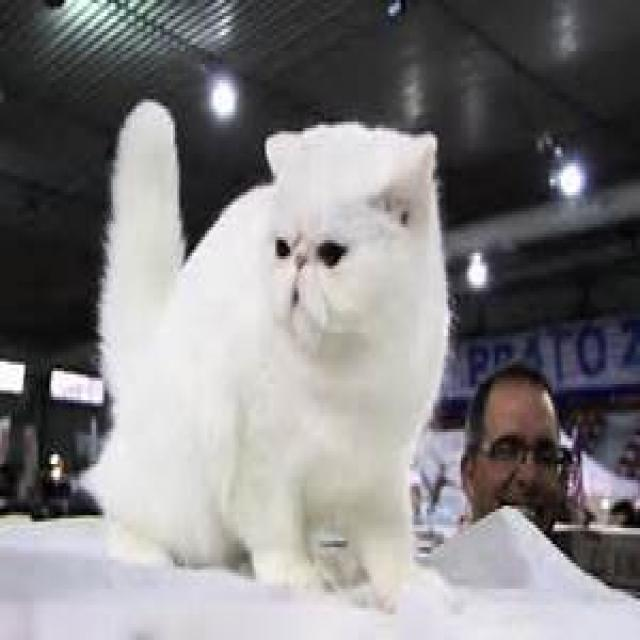animal: (88, 96, 450, 611)
